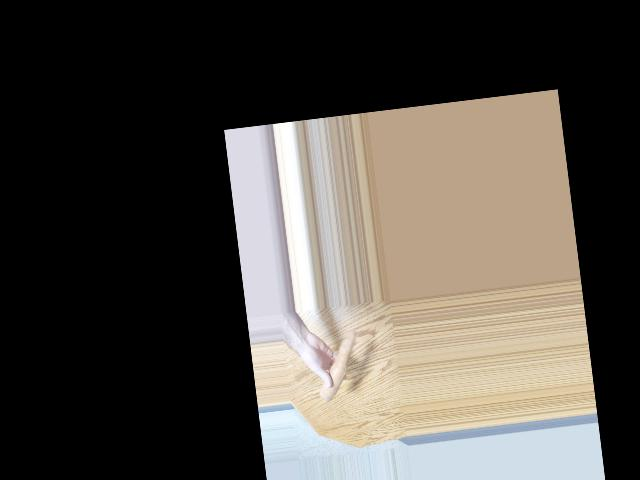sweet_potato: (315, 331, 360, 410)
